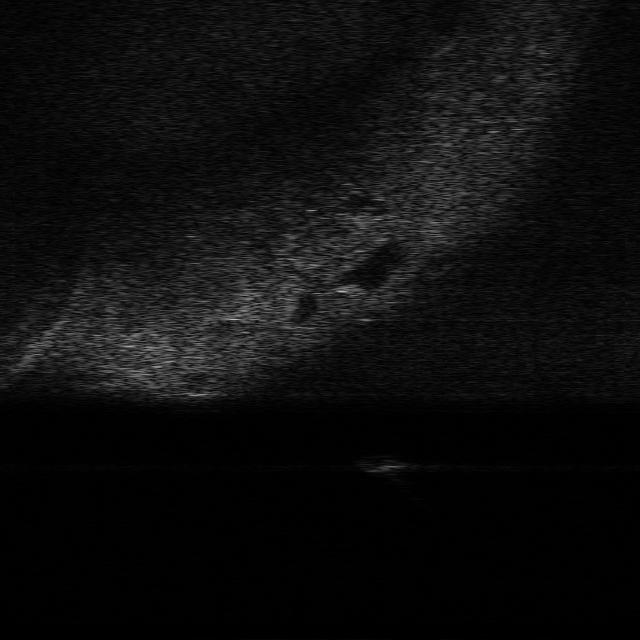cube: (356, 453, 406, 473)
